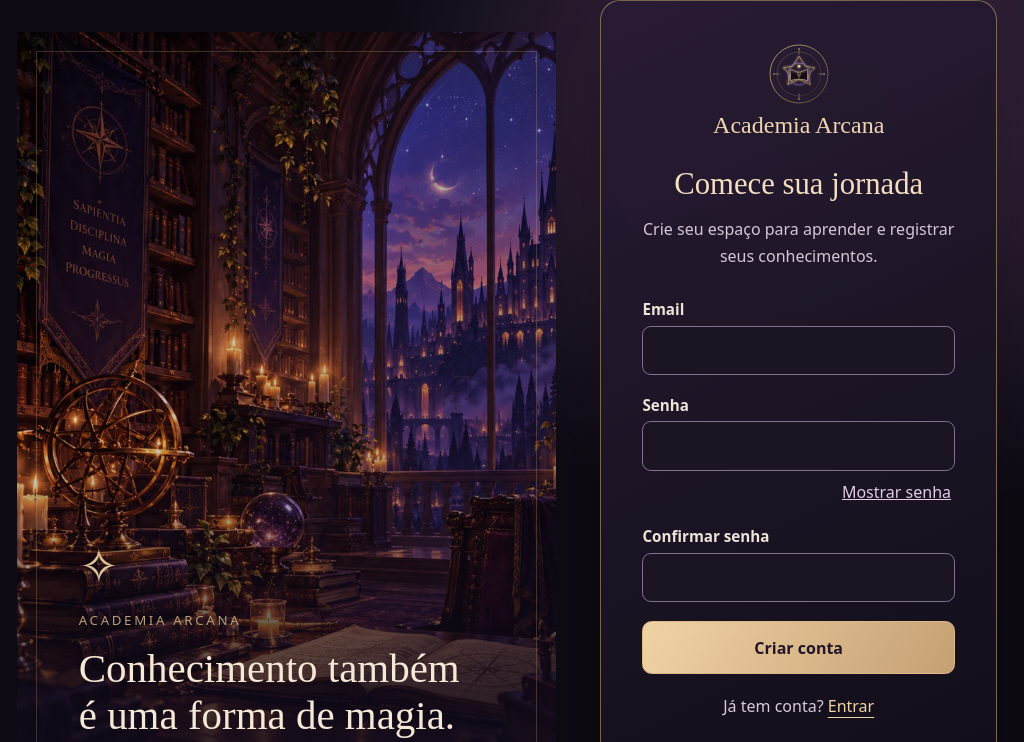
Test: AuthForm › rejects a password shorter than eight characters during signup
Type "student@example.com" into the field labelled "Email" at (799, 351), box [642,326,955,375]
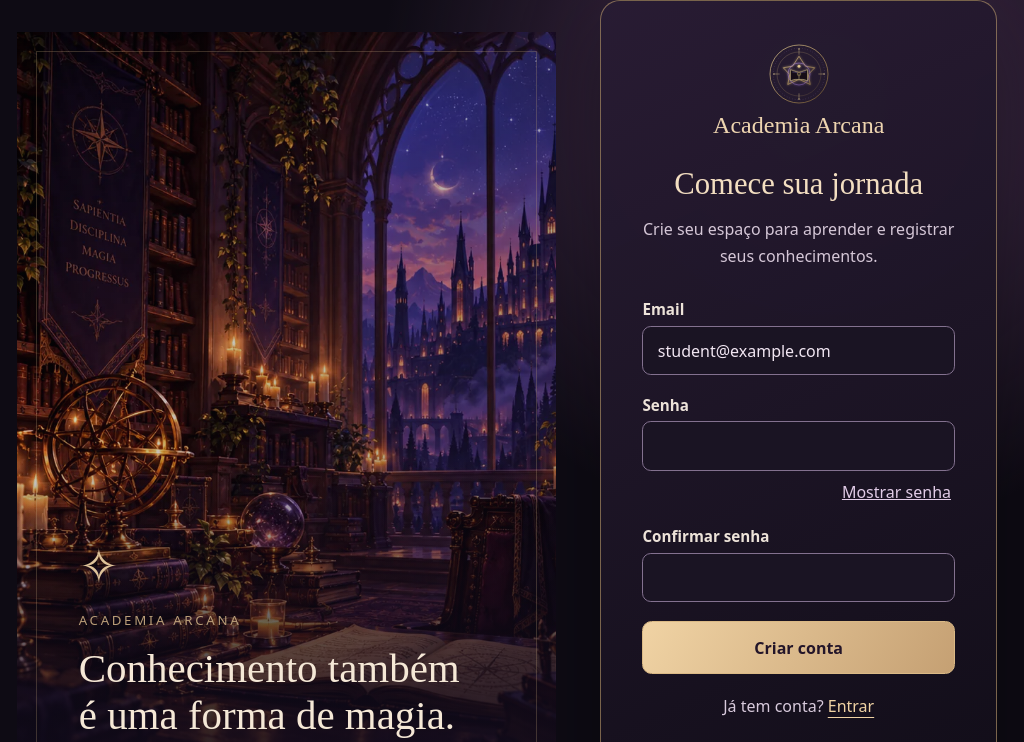
Type "1234567" into the password field labelled "Senha" at (799, 446), box [642,421,955,471]
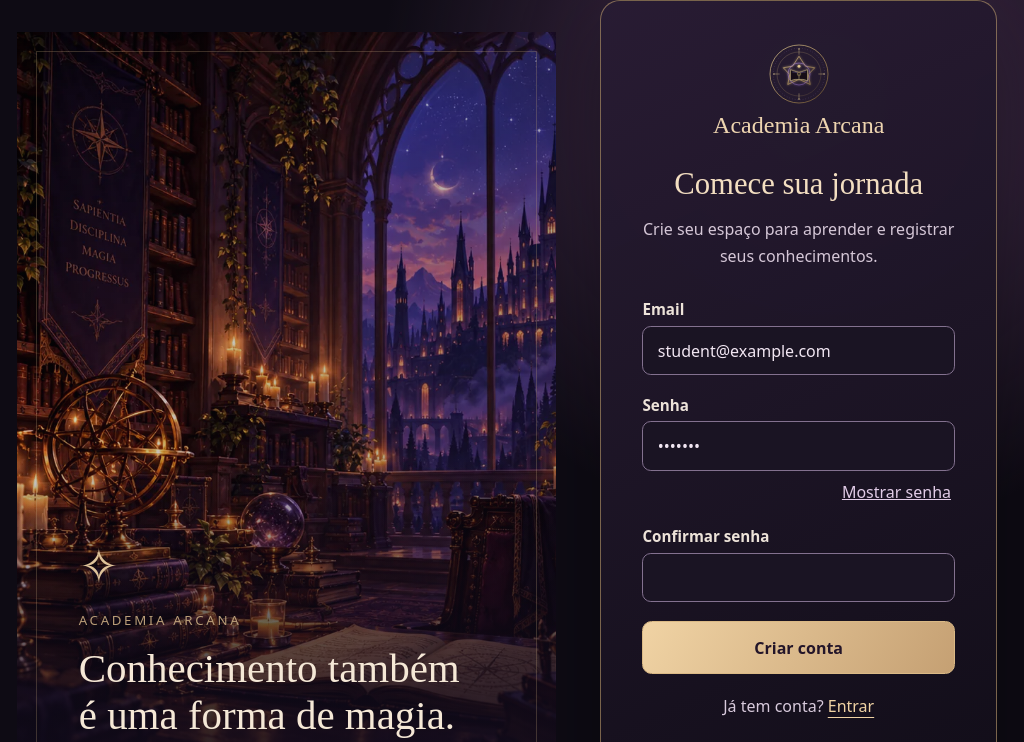
Click the button "Criar conta" at (799, 648), box [642,621,955,674]
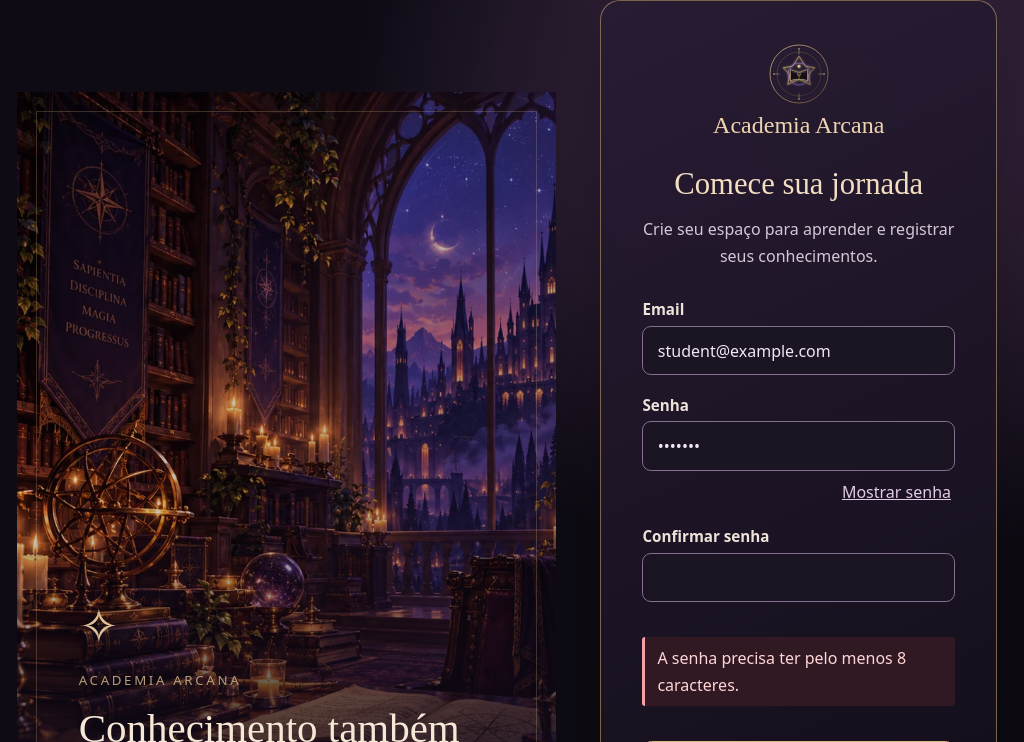
Now the message reads "A senha precisa ter pelo menos 8 caracteres.", box [657,647,906,696]
